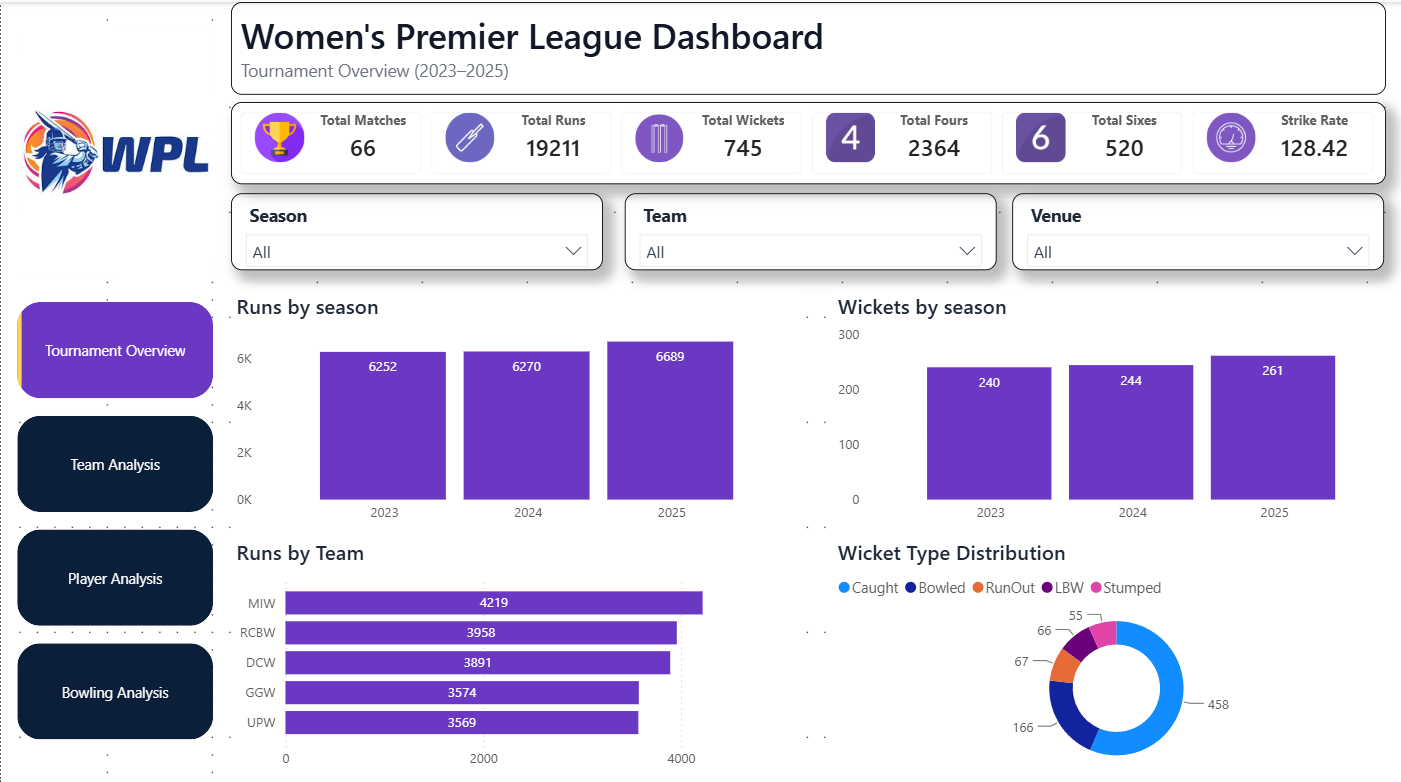

What the dashboard file says about the page in this screenshot:
{"tool":"powerbi","page":{"name":"Tournament Overview","canvas":[1280,720],"ordinal":0},"visuals":[{"type":"slicer","fields":{"Values":["fact_ball_by_ball.season"]},"box":[210,175,340,70],"z":0},{"type":"slicer","fields":{"Values":["fact_ball_by_ball.batting_team"]},"box":[570,175,340,70],"z":1000},{"type":"slicer","fields":{"Values":["fact_ball_by_ball.venue"]},"box":[925,175,340,70],"z":2000},{"type":"columnChart","title":"Runs by season","fields":{"Category":["fact_ball_by_ball.season"],"Y":["Tournament KPI's.Total Runs"]},"box":[210,265,520,220],"z":3000},{"type":"columnChart","title":"Wickets by season","fields":{"Category":["fact_ball_by_ball.season"],"Y":["Tournament KPI's.Total Wickets"]},"box":[760,265,520,220],"z":4000},{"type":"barChart","title":"Runs by Team","fields":{"Category":["fact_ball_by_ball.batting_team"],"Y":["Tournament KPI's.Total Runs"]},"box":[210,490,520,220],"z":5000},{"type":"donutChart","title":"Wicket Type Distribution","fields":{"Category":["fact_ball_by_ball.wicket_type"],"Y":["CountNonNull(fact_ball_by_ball.wicket_type)"]},"box":[760,490,520,220],"z":6000},{"type":"textbox","box":[210,0,1056,85],"z":7000},{"type":"cardVisual","fields":{"Data":["Tournament KPI's.Total Matches","Tournament KPI's.Total Runs","Tournament KPI's.Total Wickets","Tournament KPI's.Total Fours","Tournament KPI's.Total Sixes","Tournament KPI's.Strike Rate"]},"box":[210,91,1056,75],"z":8000},{"type":"pageNavigator","box":[15,274.4,179,400.6],"z":8000,"group":"g1"},{"type":"group","id":"g1","title":"Group 1","box":[15,25,180,650],"z":9000},{"type":"image","box":[16,25,179,224.3],"z":9001,"group":"g1"}]}

Visuals, with their boxes in screenshot pixels (x1, y1, x2, y2), scaled from the page's 1280x720 canvas onto the 1401x782 screenshot:
slicer - fact_ball_by_ball.season: region(230, 190, 602, 266)
slicer - fact_ball_by_ball.batting_team: region(624, 190, 996, 266)
slicer - fact_ball_by_ball.venue: region(1012, 190, 1385, 266)
"Runs by season" columnChart: region(230, 288, 799, 527)
"Wickets by season" columnChart: region(832, 288, 1400, 527)
"Runs by Team" barChart: region(230, 532, 799, 771)
"Wicket Type Distribution" donutChart: region(832, 532, 1400, 771)
textbox: region(230, 0, 1386, 92)
cardVisual - Tournament KPI's.Total Matches x Tournament KPI's.Total Runs: region(230, 99, 1386, 180)
pageNavigator: region(16, 298, 212, 733)
"Group 1" group: region(16, 27, 213, 733)
image: region(18, 27, 213, 271)
